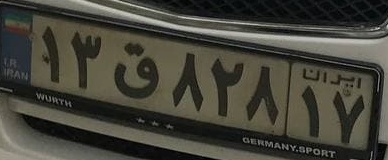character: (109, 39, 161, 102), (167, 48, 208, 112), (245, 62, 284, 128), (208, 52, 245, 117), (71, 25, 103, 94), (329, 89, 367, 146), (298, 83, 327, 141), (38, 24, 65, 85)
